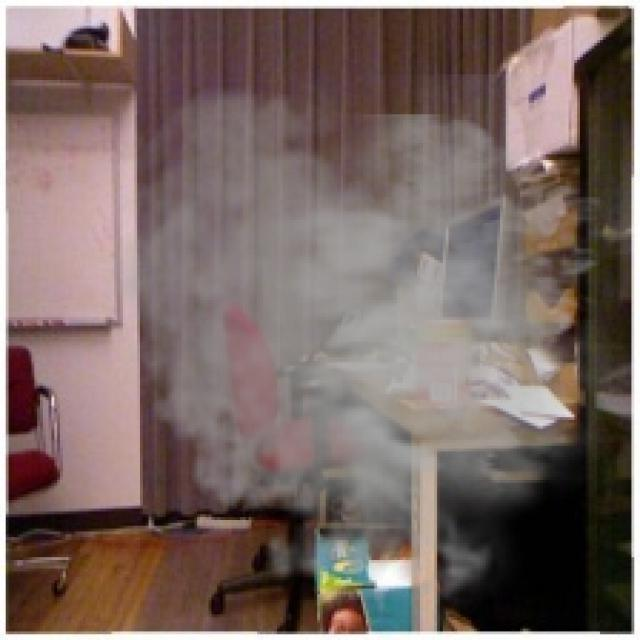Smoke: (92, 74, 638, 620)
